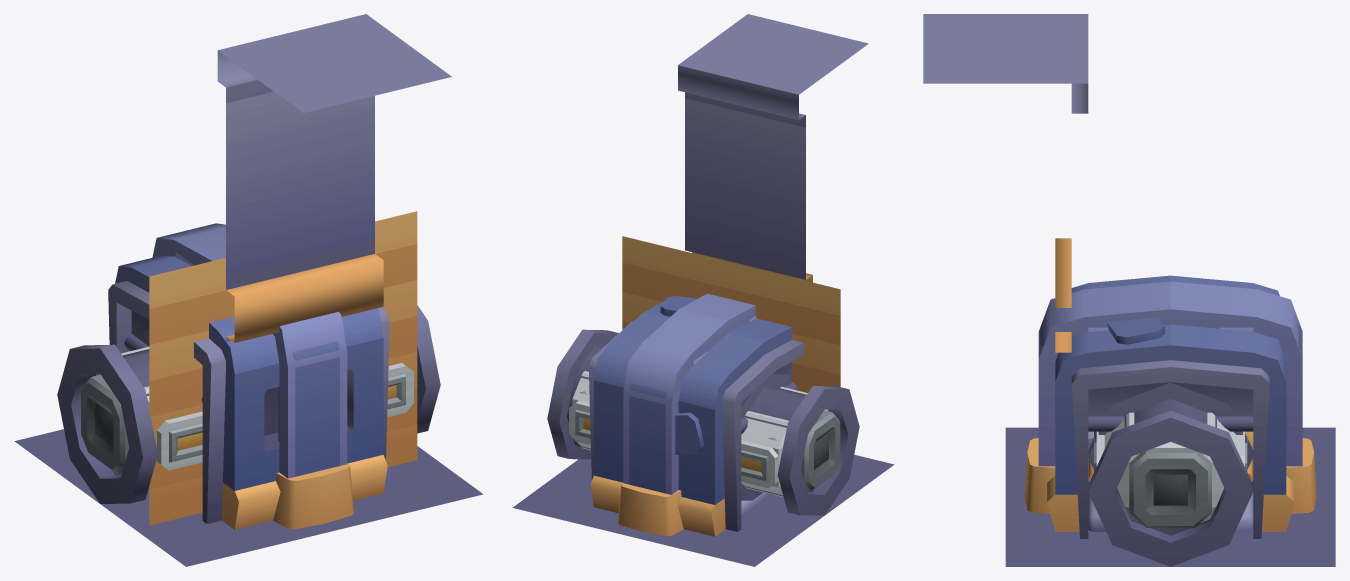
The model's file is map_tunnel.glb.
The picture shows the model from 3 angles, left to right: view 1: azimuth 30°, elevation 25°; view 2: azimuth 150°, elevation 25°; view 3: azimuth 270°, elevation 25°; orthographic projection. The views are drawn at different scales.
Parts seen in each view (by area): view 1: structure-wall, machine-fortified, door-wide-closed, floor-large, pipe-large-long, scanner-high, tunnel_straight_A; view 2: structure-wall, machine-fortified, door-wide-closed, pipe-large-long, floor-large, tunnel_straight_A, scanner-high, pipe-large-valve; view 3: machine-fortified, floor-large, structure-wall, pipe-large-long, tunnel_straight_A, scanner-high, pipe-large-valve, catwalk-straight.
Boxes of the visible parts, x1=… form: structure-wall: x1=217, y1=14, x2=451, y2=435; machine-fortified: x1=108, y1=223, x2=389, y2=529; door-wide-closed: x1=149, y1=211, x2=417, y2=525; floor-large: x1=14, y1=429, x2=483, y2=566; pipe-large-long: x1=57, y1=305, x2=440, y2=503; scanner-high: x1=175, y1=252, x2=353, y2=529; tunnel_straight_A: x1=81, y1=346, x2=413, y2=473; structure-wall: x1=678, y1=14, x2=868, y2=282; machine-fortified: x1=588, y1=293, x2=804, y2=536; door-wide-closed: x1=622, y1=236, x2=840, y2=392; pipe-large-long: x1=547, y1=329, x2=859, y2=515; floor-large: x1=512, y1=454, x2=894, y2=566; tunnel_straight_A: x1=569, y1=371, x2=840, y2=497; scanner-high: x1=618, y1=316, x2=756, y2=536; pipe-large-valve: x1=741, y1=374, x2=790, y2=500; machine-fortified: x1=1038, y1=275, x2=1302, y2=538; floor-large: x1=1005, y1=427, x2=1335, y2=566; structure-wall: x1=923, y1=14, x2=1088, y2=352; pipe-large-long: x1=1088, y1=399, x2=1253, y2=566; tunnel_straight_A: x1=1094, y1=412, x2=1247, y2=527; scanner-high: x1=1024, y1=324, x2=1316, y2=513; pipe-large-valve: x1=1088, y1=382, x2=1253, y2=469; catwalk-straight: x1=1088, y1=431, x2=1253, y2=531.
Bounding box in the file's own units: 2 × 3.15 × 2.5.
Materials: 3 (3 with a texture image).
